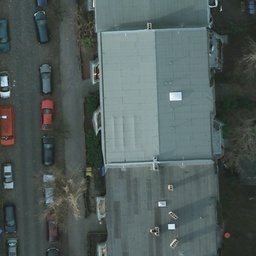car: (33, 10, 51, 44), (41, 175, 57, 207), (0, 19, 15, 51), (40, 98, 54, 131), (46, 213, 60, 244), (41, 137, 55, 167), (38, 62, 51, 94), (0, 68, 10, 98), (2, 161, 12, 189), (4, 202, 13, 230), (33, 0, 48, 9)
van: (0, 107, 14, 148)
